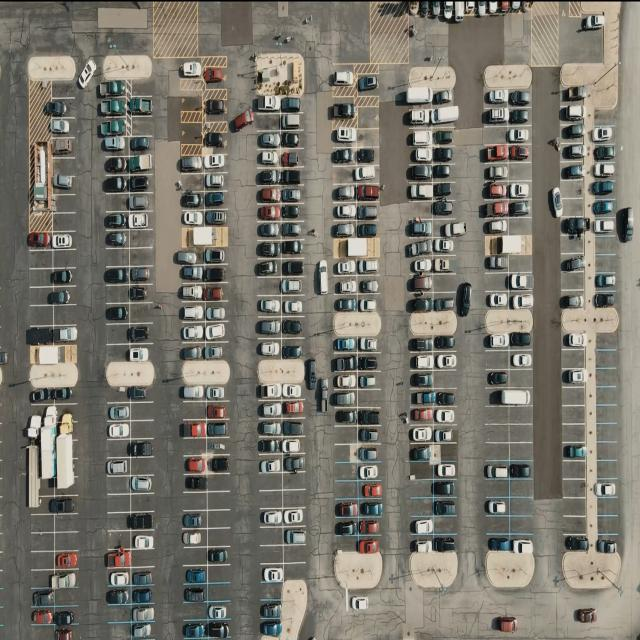space-empty: (29, 305, 54, 327), (482, 349, 508, 370), (106, 528, 131, 549), (129, 229, 155, 249), (106, 323, 130, 344), (257, 276, 282, 296), (560, 348, 585, 368), (561, 478, 586, 498), (561, 386, 586, 406), (180, 400, 205, 420), (129, 456, 154, 476), (28, 250, 54, 269), (254, 112, 280, 131), (486, 407, 512, 426), (356, 106, 379, 127), (509, 162, 533, 182), (106, 283, 130, 303), (130, 115, 154, 135), (510, 368, 534, 388), (54, 306, 78, 326), (260, 526, 284, 546), (410, 460, 434, 480), (435, 370, 459, 390), (560, 198, 584, 218), (207, 490, 231, 510), (106, 512, 130, 532), (208, 510, 232, 530), (30, 286, 54, 306), (482, 127, 507, 146), (54, 588, 79, 607), (178, 173, 203, 192), (510, 480, 535, 499), (562, 459, 587, 478), (560, 179, 585, 198), (560, 235, 585, 254), (29, 269, 54, 288), (508, 217, 533, 236), (104, 192, 129, 211), (30, 532, 55, 551), (434, 274, 459, 293), (31, 552, 56, 571), (484, 442, 509, 461), (484, 480, 510, 498), (129, 248, 155, 266), (486, 516, 512, 534), (407, 201, 433, 219), (180, 124, 203, 144), (261, 545, 284, 565), (31, 568, 54, 588), (596, 385, 619, 405), (335, 424, 358, 444), (595, 349, 618, 369), (131, 402, 154, 422), (334, 461, 357, 481), (283, 561, 306, 581), (54, 194, 78, 213), (106, 493, 130, 512), (434, 516, 458, 535), (104, 248, 128, 267), (561, 406, 585, 425), (208, 563, 232, 582), (183, 547, 207, 566), (562, 424, 586, 443), (484, 272, 508, 291), (31, 515, 55, 534), (131, 420, 155, 439), (55, 514, 79, 533), (130, 78, 154, 97), (510, 424, 534, 443), (355, 129, 379, 148), (260, 489, 284, 508), (260, 473, 284, 492), (594, 237, 618, 256), (510, 497, 534, 516), (208, 528, 232, 547), (182, 439, 206, 458), (562, 497, 586, 516), (208, 584, 232, 603), (486, 424, 510, 443), (435, 444, 459, 463), (105, 477, 130, 495), (52, 159, 77, 177), (183, 491, 208, 509), (182, 602, 207, 620), (52, 80, 77, 98), (509, 406, 534, 424), (130, 304, 152, 324), (596, 442, 618, 462), (105, 439, 128, 458), (357, 389, 380, 408), (56, 531, 79, 550), (409, 479, 432, 498), (207, 474, 230, 493), (282, 546, 306, 564), (131, 493, 155, 511), (560, 273, 584, 291), (53, 212, 77, 230), (131, 550, 155, 568), (107, 604, 131, 622), (509, 254, 533, 272), (510, 443, 534, 461), (179, 94, 203, 112), (510, 516, 534, 534), (334, 481, 358, 499), (106, 385, 130, 403), (595, 333, 619, 351), (562, 516, 586, 534), (55, 249, 77, 268), (596, 405, 618, 424), (596, 459, 618, 478), (596, 423, 618, 442), (596, 367, 618, 386), (282, 489, 304, 508), (596, 515, 618, 534), (333, 166, 356, 184), (262, 584, 285, 602), (595, 256, 618, 274), (592, 108, 616, 125), (409, 497, 433, 514), (108, 623, 132, 640), (336, 534, 358, 552), (595, 498, 617, 516), (281, 472, 304, 489), (106, 346, 130, 362), (334, 445, 356, 462), (31, 626, 55, 640)
space-occupied: (490, 386, 532, 406), (100, 134, 128, 156), (98, 98, 128, 118), (99, 116, 129, 136), (592, 214, 618, 237), (406, 106, 434, 127), (204, 94, 228, 118), (588, 178, 616, 198), (202, 64, 226, 87), (334, 98, 357, 122), (332, 125, 357, 147), (408, 181, 434, 202), (48, 98, 75, 118), (258, 316, 282, 338), (334, 65, 356, 89), (51, 137, 76, 158), (434, 105, 459, 126), (258, 296, 283, 317), (560, 288, 585, 309), (482, 106, 508, 126), (101, 78, 127, 98), (484, 458, 510, 478), (483, 162, 509, 182), (560, 124, 586, 144), (561, 142, 587, 162), (408, 292, 434, 312), (560, 214, 586, 234), (560, 162, 586, 182), (560, 103, 586, 123), (408, 423, 434, 443), (182, 620, 208, 640), (483, 200, 509, 220), (407, 238, 434, 257), (332, 389, 359, 408), (180, 58, 202, 81), (30, 325, 54, 346), (129, 95, 153, 116), (561, 368, 585, 389), (105, 304, 129, 325), (434, 291, 458, 312), (129, 475, 154, 495), (129, 266, 154, 286), (181, 511, 206, 531), (49, 118, 74, 138), (105, 230, 130, 250), (28, 231, 53, 251), (178, 154, 203, 174), (408, 217, 433, 237), (509, 272, 534, 292), (183, 527, 208, 547), (179, 303, 204, 323), (179, 282, 204, 302), (484, 495, 509, 515), (334, 275, 359, 295), (483, 181, 509, 200), (102, 157, 128, 176), (482, 144, 508, 163), (253, 94, 279, 113), (179, 383, 205, 402), (104, 174, 130, 193), (482, 333, 508, 352), (561, 86, 587, 105), (591, 199, 617, 218), (408, 274, 434, 293), (482, 216, 508, 235), (563, 533, 589, 552), (407, 129, 433, 148), (353, 445, 380, 463), (282, 316, 304, 338), (356, 73, 378, 95), (510, 349, 534, 369), (129, 210, 153, 230), (129, 156, 153, 176), (281, 297, 305, 317), (132, 530, 156, 550), (261, 508, 285, 528), (434, 350, 458, 370), (56, 551, 80, 571), (354, 164, 378, 184), (106, 402, 130, 422), (484, 288, 508, 308), (204, 282, 228, 302), (333, 202, 357, 222), (183, 474, 207, 494), (55, 324, 79, 344), (130, 439, 154, 459), (258, 338, 282, 358), (180, 321, 204, 341), (485, 369, 509, 389), (106, 567, 130, 587), (104, 210, 129, 229), (562, 443, 587, 462), (561, 332, 586, 351), (179, 190, 204, 209), (104, 267, 129, 286), (409, 443, 434, 462), (257, 220, 282, 239), (560, 255, 585, 274), (181, 419, 206, 438), (408, 164, 433, 183), (509, 290, 534, 309), (409, 516, 434, 535), (334, 293, 359, 312), (410, 370, 435, 389), (409, 352, 434, 371), (259, 418, 284, 437), (409, 257, 434, 276), (333, 372, 358, 391), (259, 401, 284, 420), (590, 126, 616, 144), (255, 260, 281, 278), (410, 388, 436, 406), (408, 408, 434, 426), (487, 534, 513, 552), (130, 322, 152, 343), (282, 339, 304, 360), (262, 563, 285, 583), (204, 153, 227, 173), (204, 302, 227, 322), (281, 276, 304, 296), (205, 130, 228, 150), (260, 454, 283, 474), (204, 321, 227, 341), (204, 264, 227, 284), (510, 460, 534, 479), (52, 174, 76, 193), (509, 180, 533, 199), (184, 565, 208, 584), (106, 419, 130, 438), (130, 192, 154, 211), (52, 232, 76, 251), (182, 456, 206, 475), (333, 146, 357, 165), (106, 550, 130, 569), (409, 145, 433, 164), (433, 256, 457, 275), (484, 89, 508, 108), (53, 495, 77, 514), (54, 605, 78, 624), (354, 183, 378, 202), (280, 453, 304, 472), (434, 407, 458, 426), (357, 481, 381, 500), (256, 184, 280, 203), (334, 353, 358, 372), (257, 241, 282, 259), (335, 336, 360, 354), (258, 204, 283, 222), (178, 266, 203, 284), (431, 480, 456, 498), (355, 462, 380, 480), (591, 144, 616, 162), (130, 136, 152, 156), (336, 497, 358, 517), (54, 284, 76, 304), (208, 600, 230, 620), (282, 508, 304, 528), (596, 534, 618, 554), (261, 620, 283, 640), (262, 600, 284, 620), (132, 566, 154, 586), (204, 171, 227, 190), (509, 143, 532, 162), (55, 568, 78, 587), (509, 106, 532, 125), (281, 259, 304, 278), (433, 129, 456, 148), (258, 148, 281, 167), (32, 608, 55, 627), (207, 419, 230, 438), (281, 240, 304, 259), (206, 455, 229, 474), (280, 149, 303, 168), (334, 183, 357, 202), (129, 283, 152, 302), (206, 402, 229, 421), (357, 276, 380, 295), (595, 272, 618, 291), (129, 344, 152, 363), (595, 480, 618, 499), (281, 437, 304, 456), (54, 383, 77, 402), (594, 289, 617, 308), (434, 218, 457, 237), (132, 513, 155, 532), (509, 200, 533, 218), (355, 146, 379, 164), (434, 335, 458, 353), (510, 333, 534, 351), (485, 254, 509, 272), (409, 336, 433, 354), (357, 518, 381, 536), (258, 131, 282, 149), (130, 174, 154, 192), (183, 585, 207, 603), (358, 498, 382, 516), (260, 438, 284, 456), (178, 248, 202, 266), (180, 210, 204, 228), (592, 162, 616, 180), (281, 399, 305, 417), (334, 408, 358, 426), (202, 246, 226, 264), (28, 384, 52, 402), (433, 534, 457, 552), (202, 342, 226, 360), (208, 547, 230, 566), (54, 268, 76, 287), (106, 457, 128, 476), (283, 526, 305, 545), (356, 352, 378, 371), (356, 256, 378, 275), (207, 621, 229, 640), (509, 126, 532, 144), (434, 237, 457, 255), (132, 587, 155, 605), (281, 220, 304, 238), (356, 425, 379, 443), (354, 221, 377, 239), (435, 426, 458, 444), (356, 409, 379, 427), (281, 418, 304, 436), (132, 603, 155, 621), (434, 498, 457, 516), (180, 343, 203, 361), (356, 535, 379, 553), (107, 588, 131, 605), (434, 461, 458, 478), (434, 164, 456, 182), (204, 190, 226, 208), (436, 388, 458, 406), (432, 182, 454, 200), (356, 203, 378, 221), (434, 201, 456, 219), (510, 90, 532, 108), (205, 384, 227, 402), (281, 204, 303, 222), (131, 622, 153, 640), (334, 219, 356, 237), (336, 518, 359, 535), (336, 260, 359, 277), (204, 210, 227, 227), (280, 170, 303, 187), (357, 372, 378, 390), (280, 131, 301, 149), (357, 296, 378, 314), (434, 146, 456, 163), (280, 97, 302, 114), (357, 337, 379, 354), (258, 169, 280, 186), (281, 383, 303, 400), (280, 185, 302, 202), (259, 384, 282, 400), (431, 91, 454, 107), (32, 590, 52, 608), (280, 114, 302, 130), (130, 387, 152, 402), (55, 627, 78, 640)
